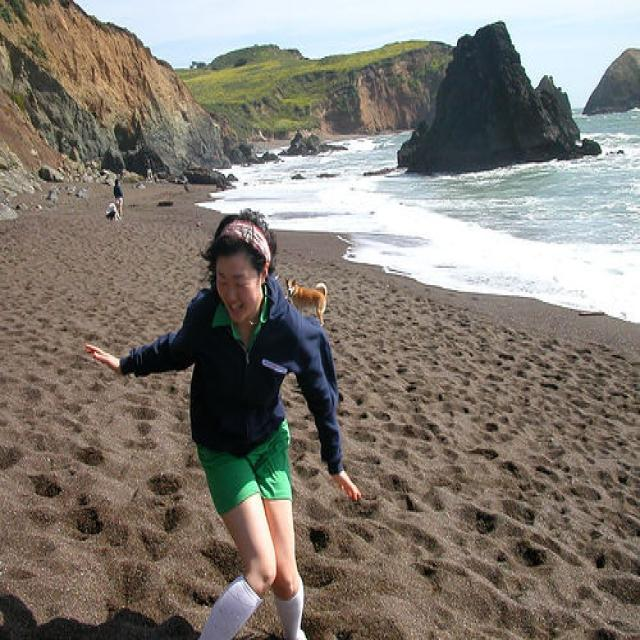dog: (285, 274, 331, 325)
person: (84, 208, 362, 640), (111, 179, 125, 220), (105, 197, 124, 223)
